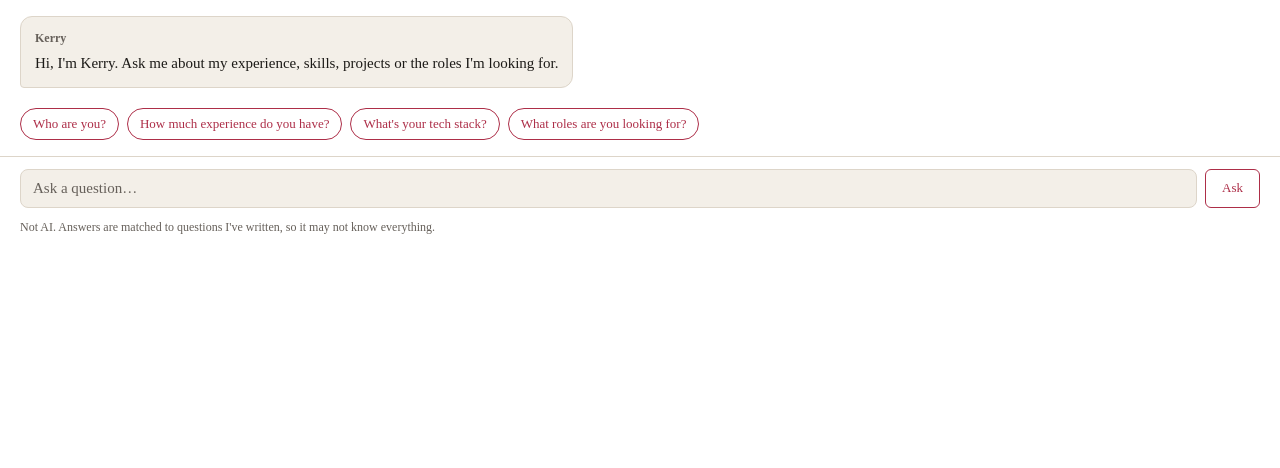
AskKerryChat › answers a typed question
The image size is (1280, 468).
Type "Do you work remotely?" into the field named "Your question". click: (608, 188)
box: [20,169,1197,208]
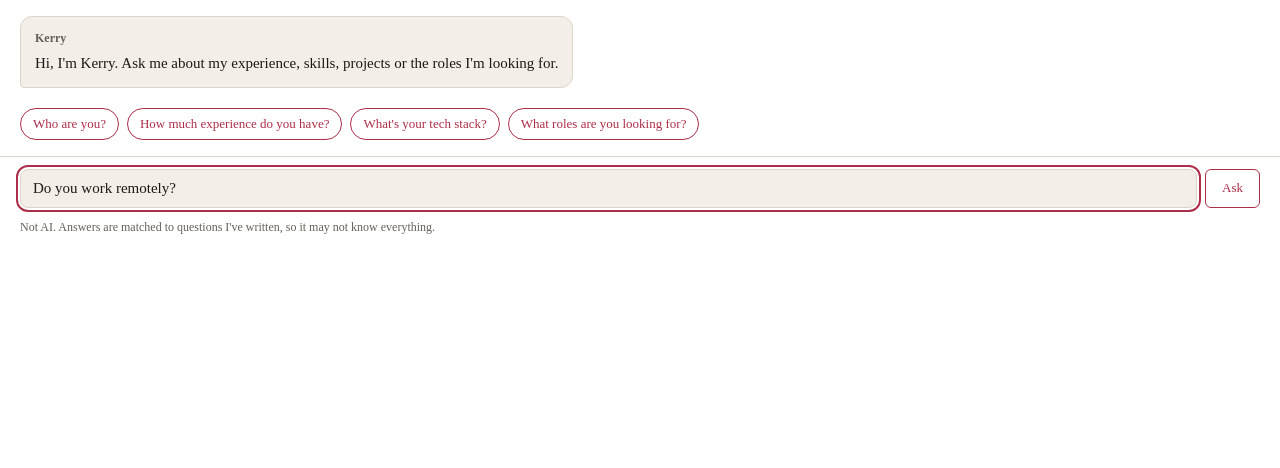
Click the button "Ask". click: (1232, 188)
box: [1205,169,1260,208]
Wait 500 ms
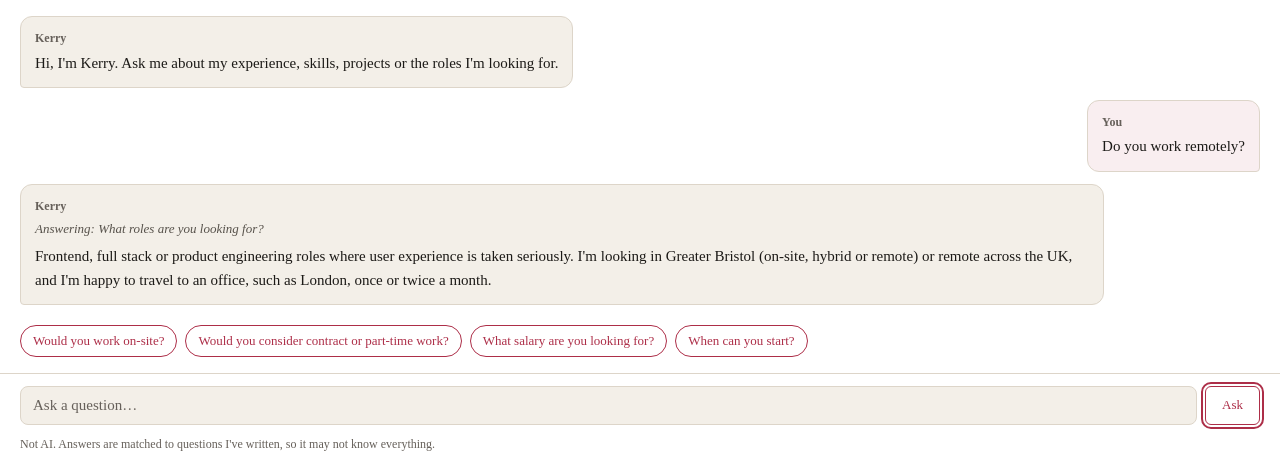
Expected: the text "Frontend, full stack or product engineering roles where user experience is taken seriously. I'm looking in Greater Brist" is shown, [35,248,1072,288]
Expected: the field named "Your question" is empty, [20,386,1197,425]
